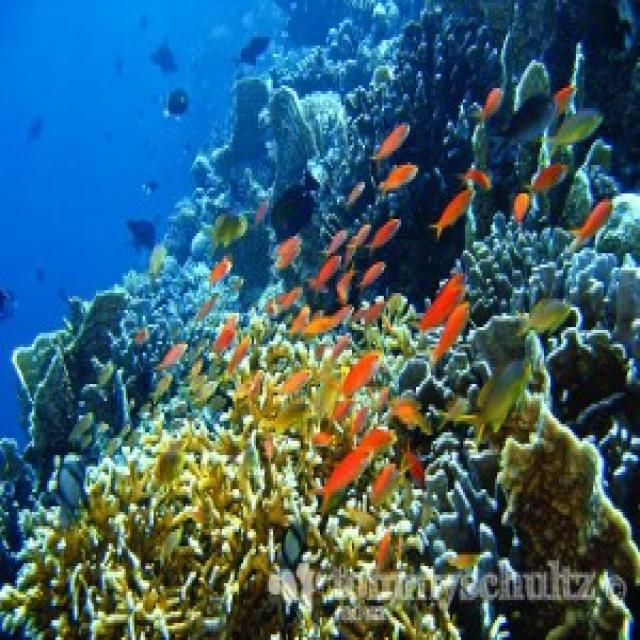Healthy: (1, 266, 639, 638), (351, 12, 496, 297), (464, 197, 639, 433)
